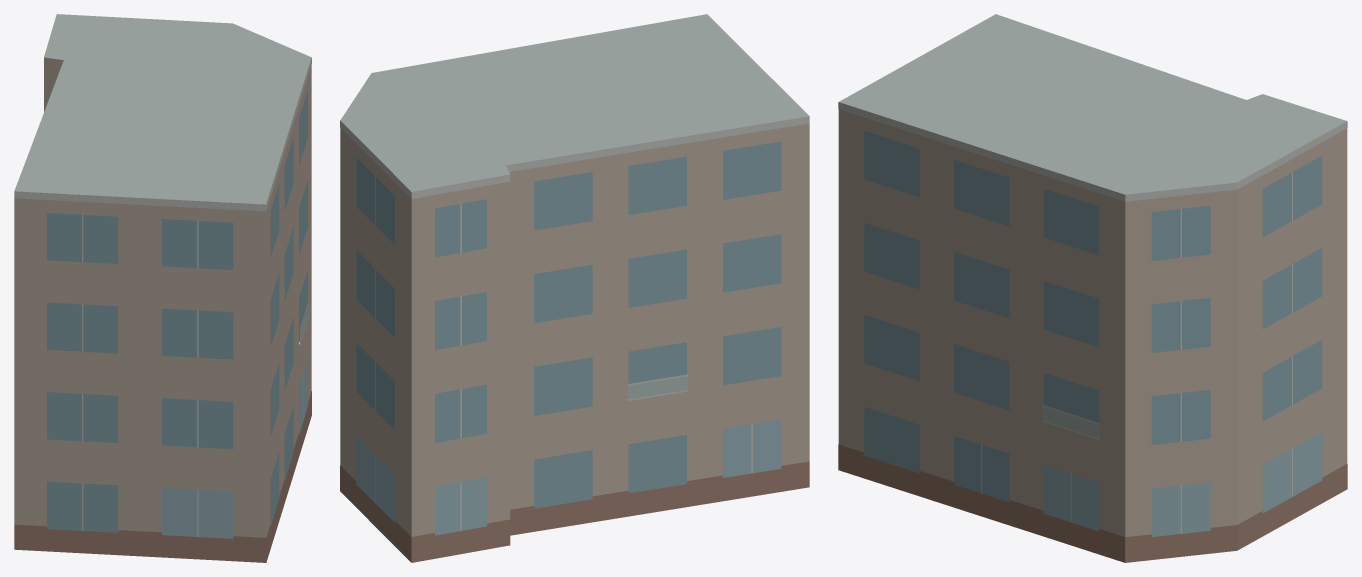
Rendered from survey-upis-32669423.glb.
3 renders of one model, left to right at view 1: azimuth 30°, elevation 25°; view 2: azimuth 150°, elevation 25°; view 3: azimuth 270°, elevation 25°, orthographic. The views are drawn at different scales.
Visible parts, largest first — view 1: survey-upis-32669423.tmp; view 2: survey-upis-32669423.tmp; view 3: survey-upis-32669423.tmp.
Part boxes in pixels (<box>): survey-upis-32669423.tmp: <box>14,14,311,562</box>; survey-upis-32669423.tmp: <box>340,14,809,562</box>; survey-upis-32669423.tmp: <box>838,14,1347,562</box>.
Size of the model in its own units: 13.38 by 12.7 by 15.92.
